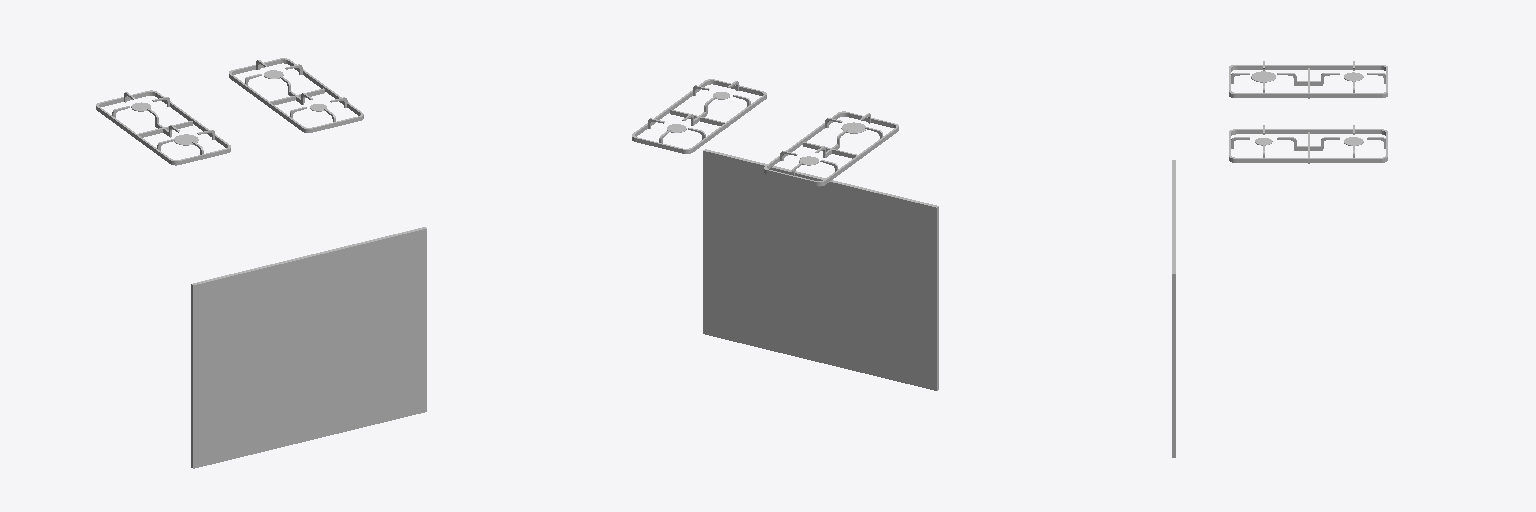
File: housesp_080.obj
3 views of the same model, side by side, from view 1: azimuth 30°, elevation 25°; view 2: azimuth 150°, elevation 25°; view 3: azimuth 270°, elevation 25° (orthographic).
Size of the model in its own units: 60 by 71 by 48.24.